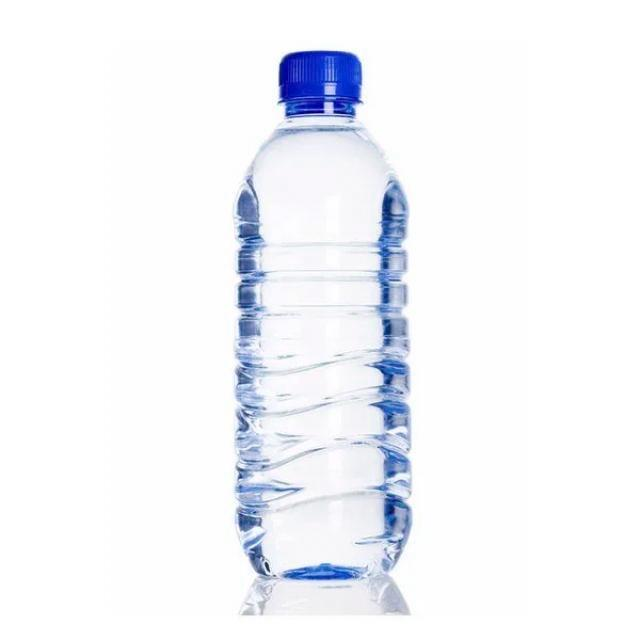bottle: (232, 51, 413, 582)
